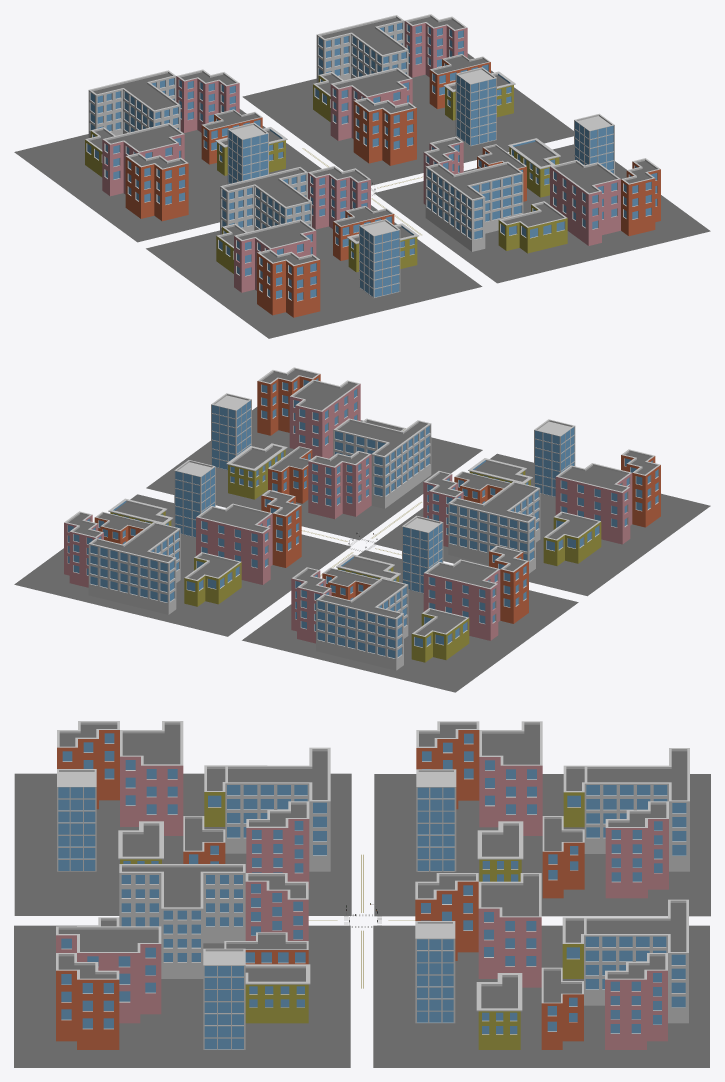
The model's file is int-test-11.fbx.
The picture shows the model from 3 angles, top to bottom: view 1: azimuth 30°, elevation 25°; view 2: azimuth 150°, elevation 25°; view 3: azimuth 270°, elevation 25°; orthographic projection. The views are drawn at different scales.
Visible parts, largest first — view 1: City.002, City.003, City, City.001; view 2: City.001, City, City.003, City.002; view 3: City.003, City, City.001, City.002.
Part boxes in pixels (x1,y1,x2,y2): City.002: [146, 166, 482, 338]; City.003: [374, 113, 710, 283]; City: [242, 14, 573, 185]; City.001: [14, 69, 321, 242]; City.001: [242, 515, 578, 692]; City: [14, 460, 350, 636]; City.003: [146, 367, 482, 540]; City.002: [374, 419, 710, 596]; City.003: [14, 864, 350, 1067]; City: [373, 873, 709, 1067]; City.001: [374, 721, 710, 916]; City.002: [14, 721, 351, 915].
Size of what is drawn, in the model's own units: 434 by 58.32 by 435.
